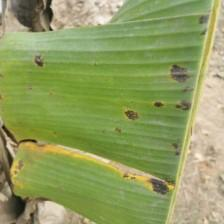pestalotiopsis: (0, 0, 219, 224)
